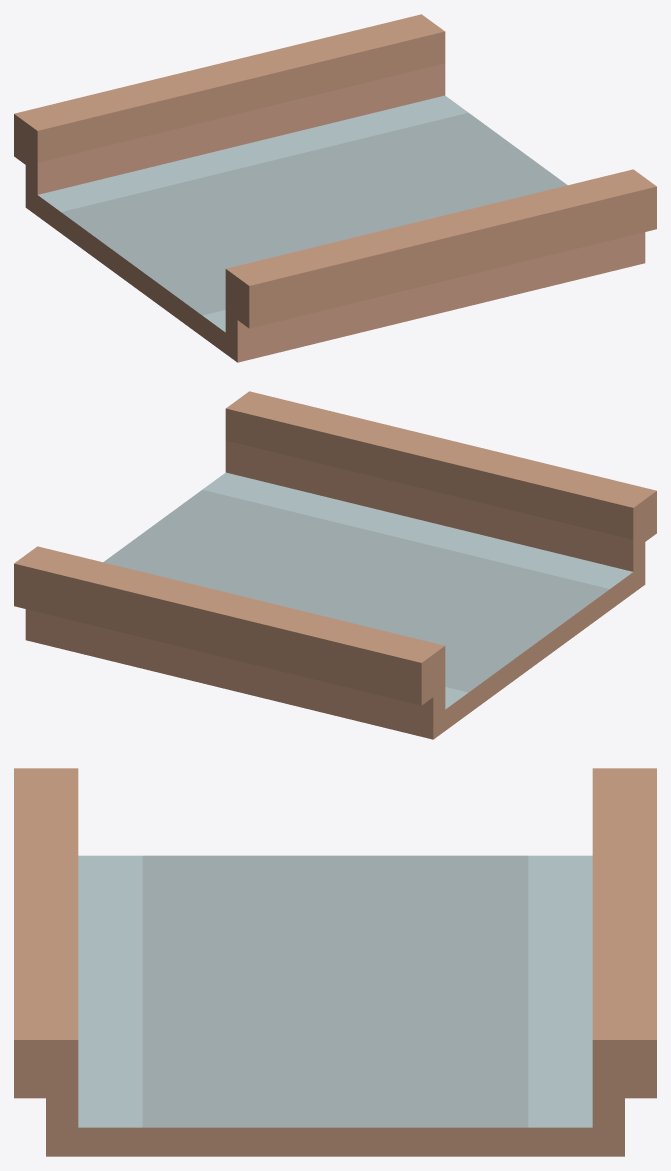
Rendered from bridge_center_woodRound.glb.
3 views of the same model, one above another, from view 1: azimuth 30°, elevation 25°; view 2: azimuth 150°, elevation 25°; view 3: azimuth 270°, elevation 25° (orthographic). The views are drawn at different scales.
Visible parts, largest first — view 1: bridge_center_woodRound; view 2: bridge_center_woodRound; view 3: bridge_center_woodRound.
Boxes of the visible parts, x1,y1,x2,y2 form: bridge_center_woodRound: [14, 14, 656, 362]; bridge_center_woodRound: [14, 391, 656, 739]; bridge_center_woodRound: [14, 768, 656, 1156].
Size of the model in its own units: 1 by 0.2 by 1.
